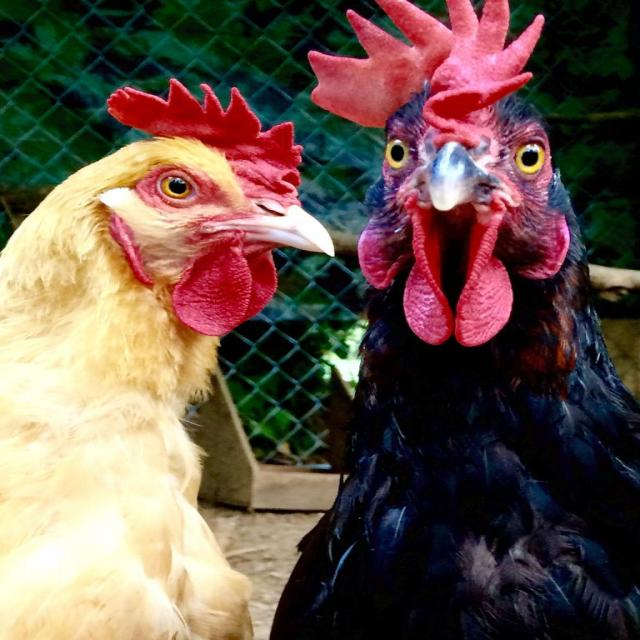Chicken: (269, 0, 640, 640), (0, 78, 335, 640)
